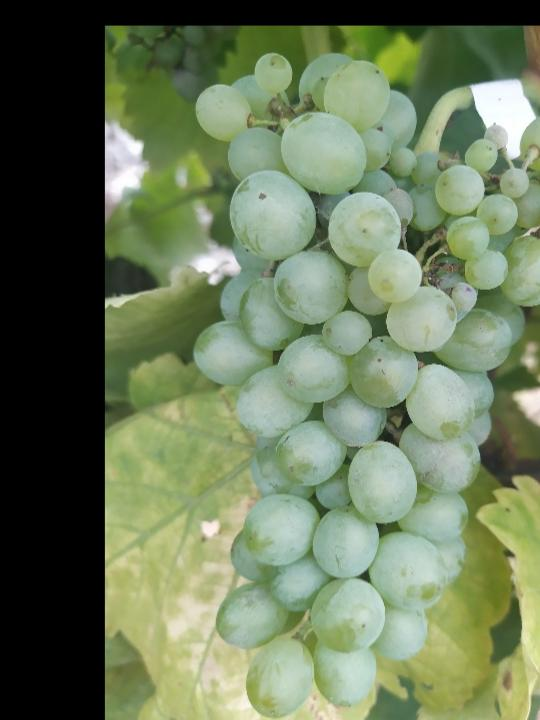grape: (190, 48, 540, 720)
